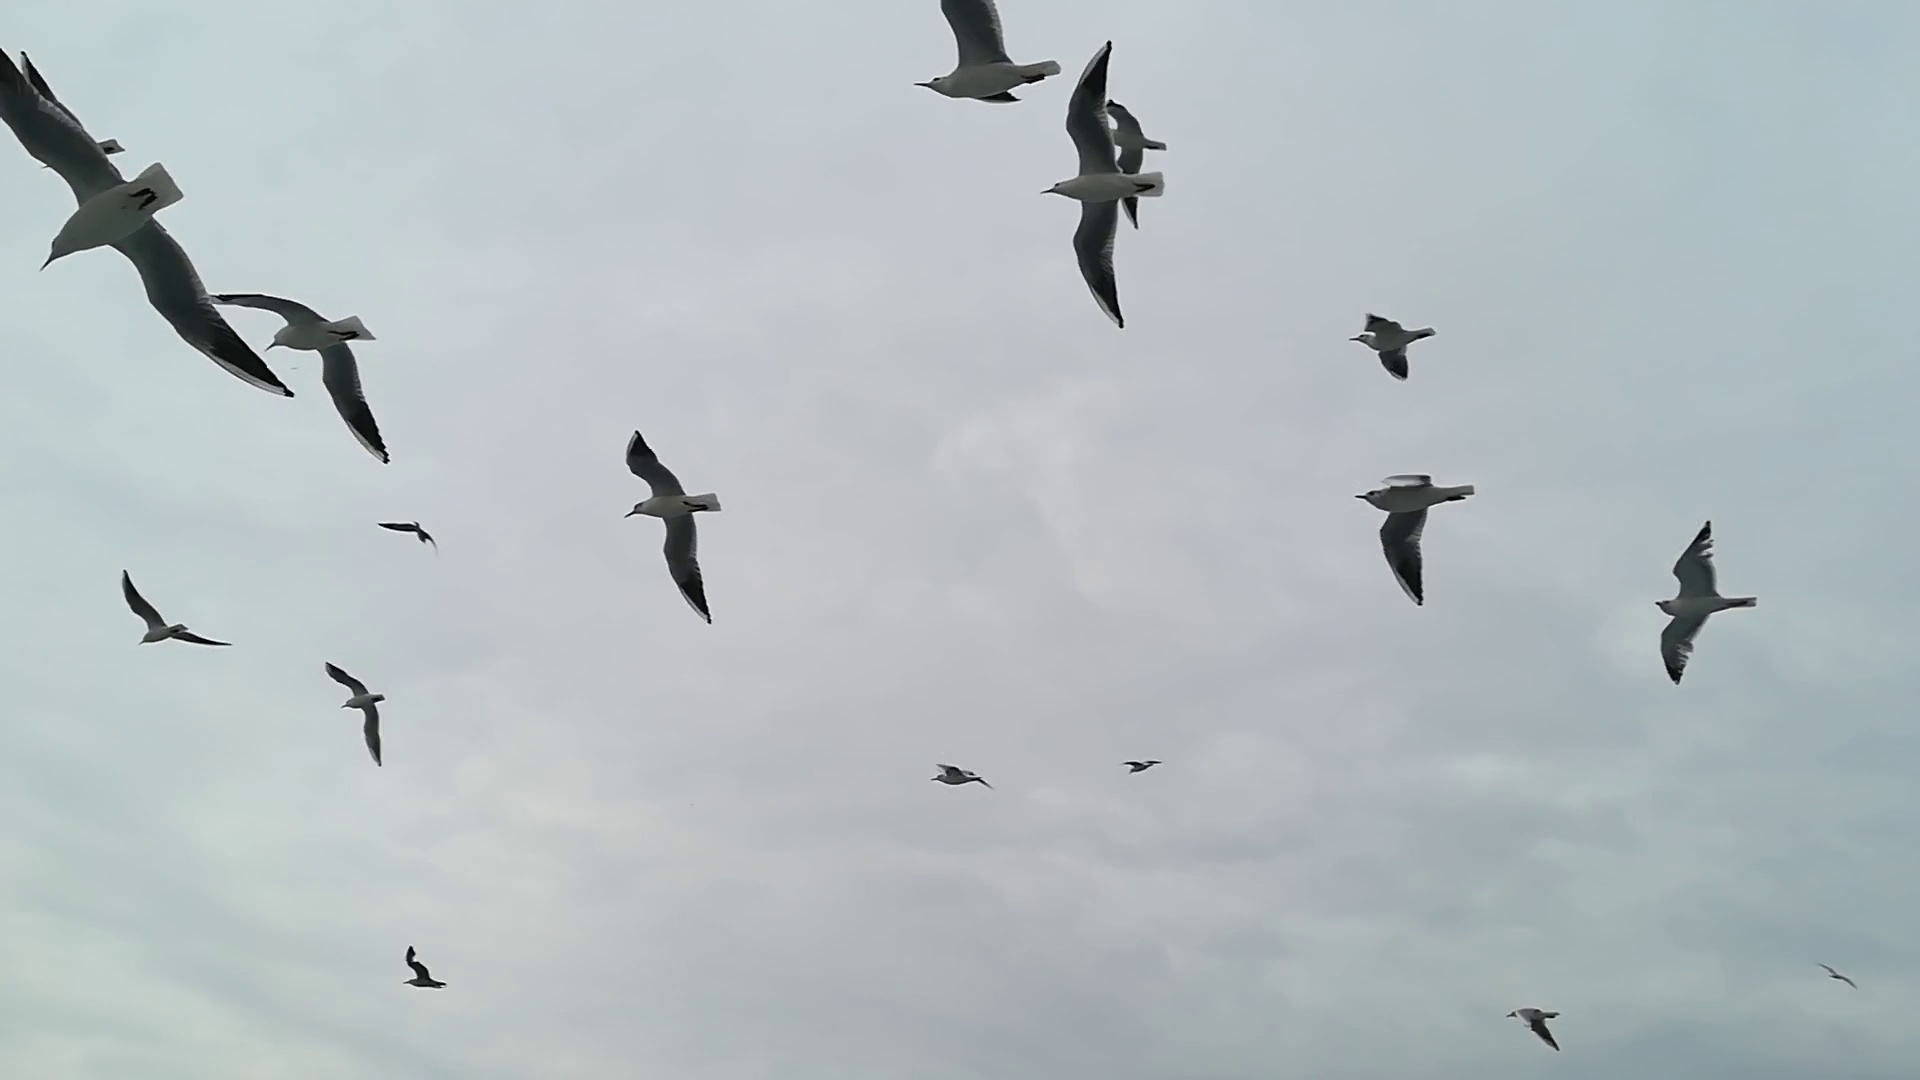bird: (1, 47, 294, 397), (1044, 32, 1163, 327), (210, 291, 394, 468), (622, 429, 724, 622), (1650, 522, 1758, 684), (1356, 469, 1474, 605), (913, 1, 1062, 104), (119, 563, 233, 649), (1106, 100, 1168, 225), (324, 659, 386, 767), (1346, 311, 1437, 378), (1506, 1004, 1563, 1048), (400, 939, 447, 992), (377, 516, 436, 549), (928, 762, 994, 789), (1821, 961, 1857, 994), (1124, 756, 1160, 773)
